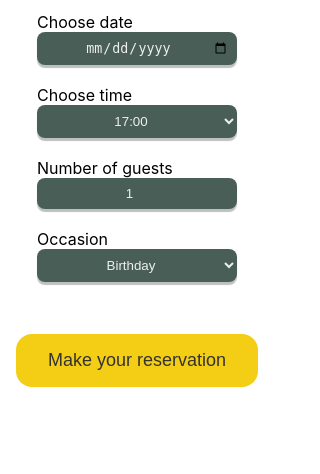
Scenario: Occasion select › Shows validation error when occasion is not selected
Select "" in the dropdown labelled "Occasion". click: (137, 266)
box: [37,249,237,282]
Click the button with aria-label "submit reservation". click: click(137, 361)
box: [16,334,258,387]
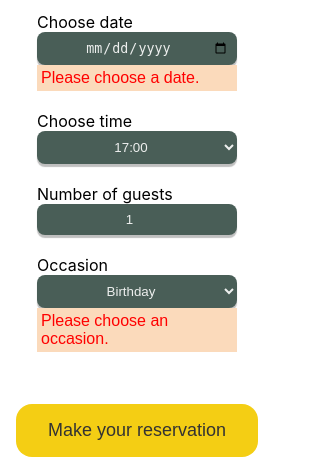
Check: the text "Please choose an occasion." is shown, box [37,308,237,352]
